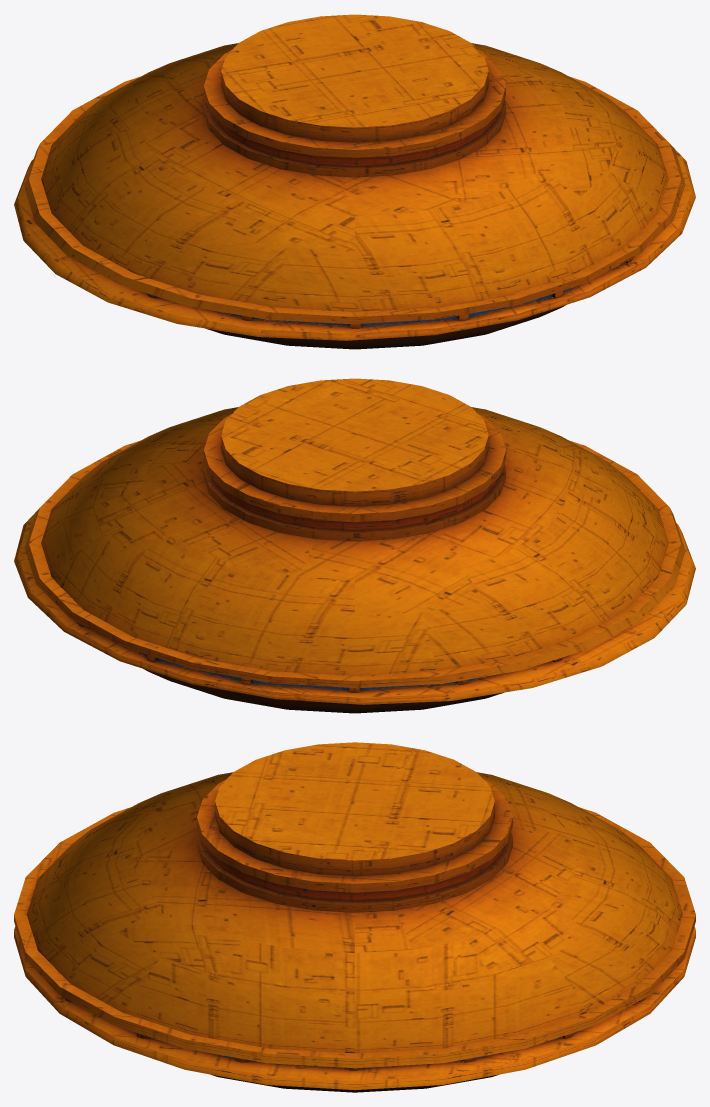
The model's file is MonsterB.obj.
3 views of the same model, one above another, from view 1: azimuth 30°, elevation 25°; view 2: azimuth 150°, elevation 25°; view 3: azimuth 270°, elevation 25° (orthographic). The views are drawn at different scales.
Parts seen in each view (by area): view 1: Sphere001; view 2: Sphere001; view 3: Sphere001.
Part boxes in pixels (x1,y1,x2,y2): Sphere001: (14,14,695,349); Sphere001: (14,378,695,713); Sphere001: (14,742,695,1092).
Size of the model in its own units: 204 by 72.61 by 192.
Materials: 1 (1 with a texture image).
